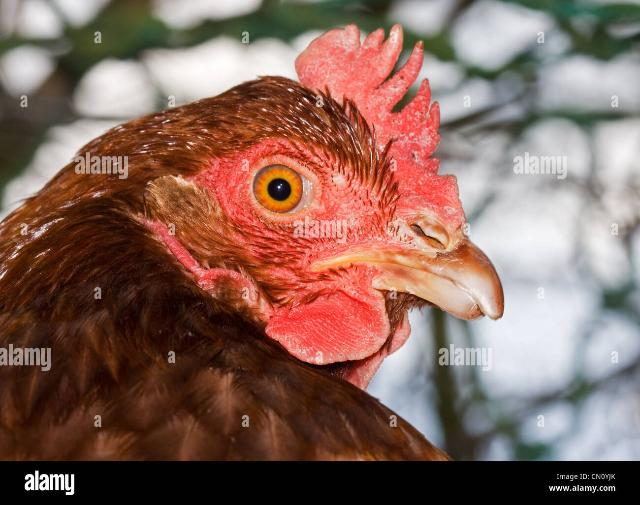Chicken: (0, 21, 506, 461)
